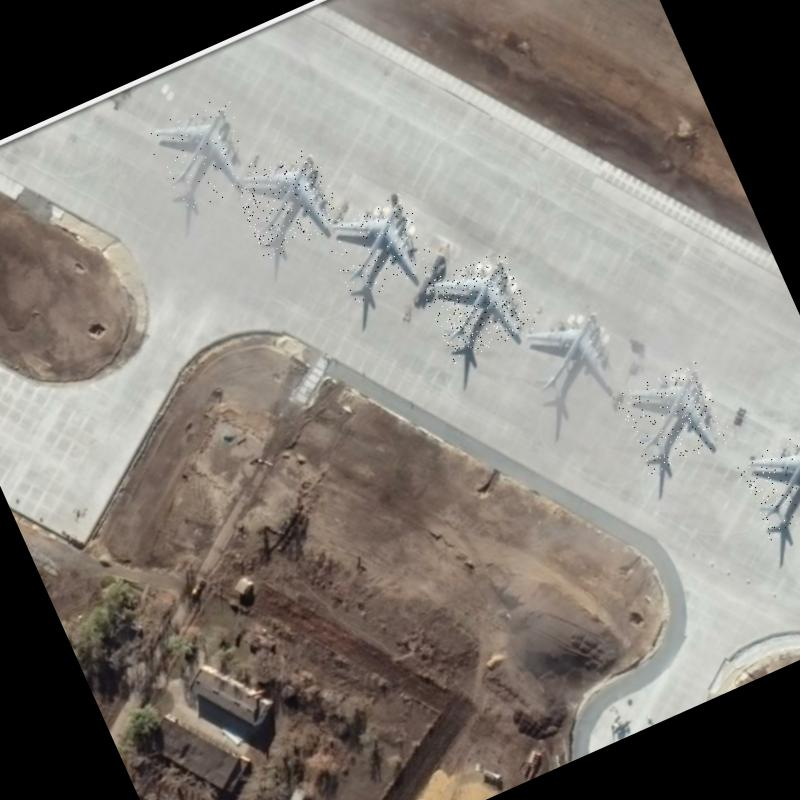A17: (143, 94, 264, 216), (510, 301, 632, 422), (614, 359, 735, 477), (420, 249, 537, 364), (231, 145, 347, 260), (320, 192, 438, 304), (735, 425, 800, 541)
